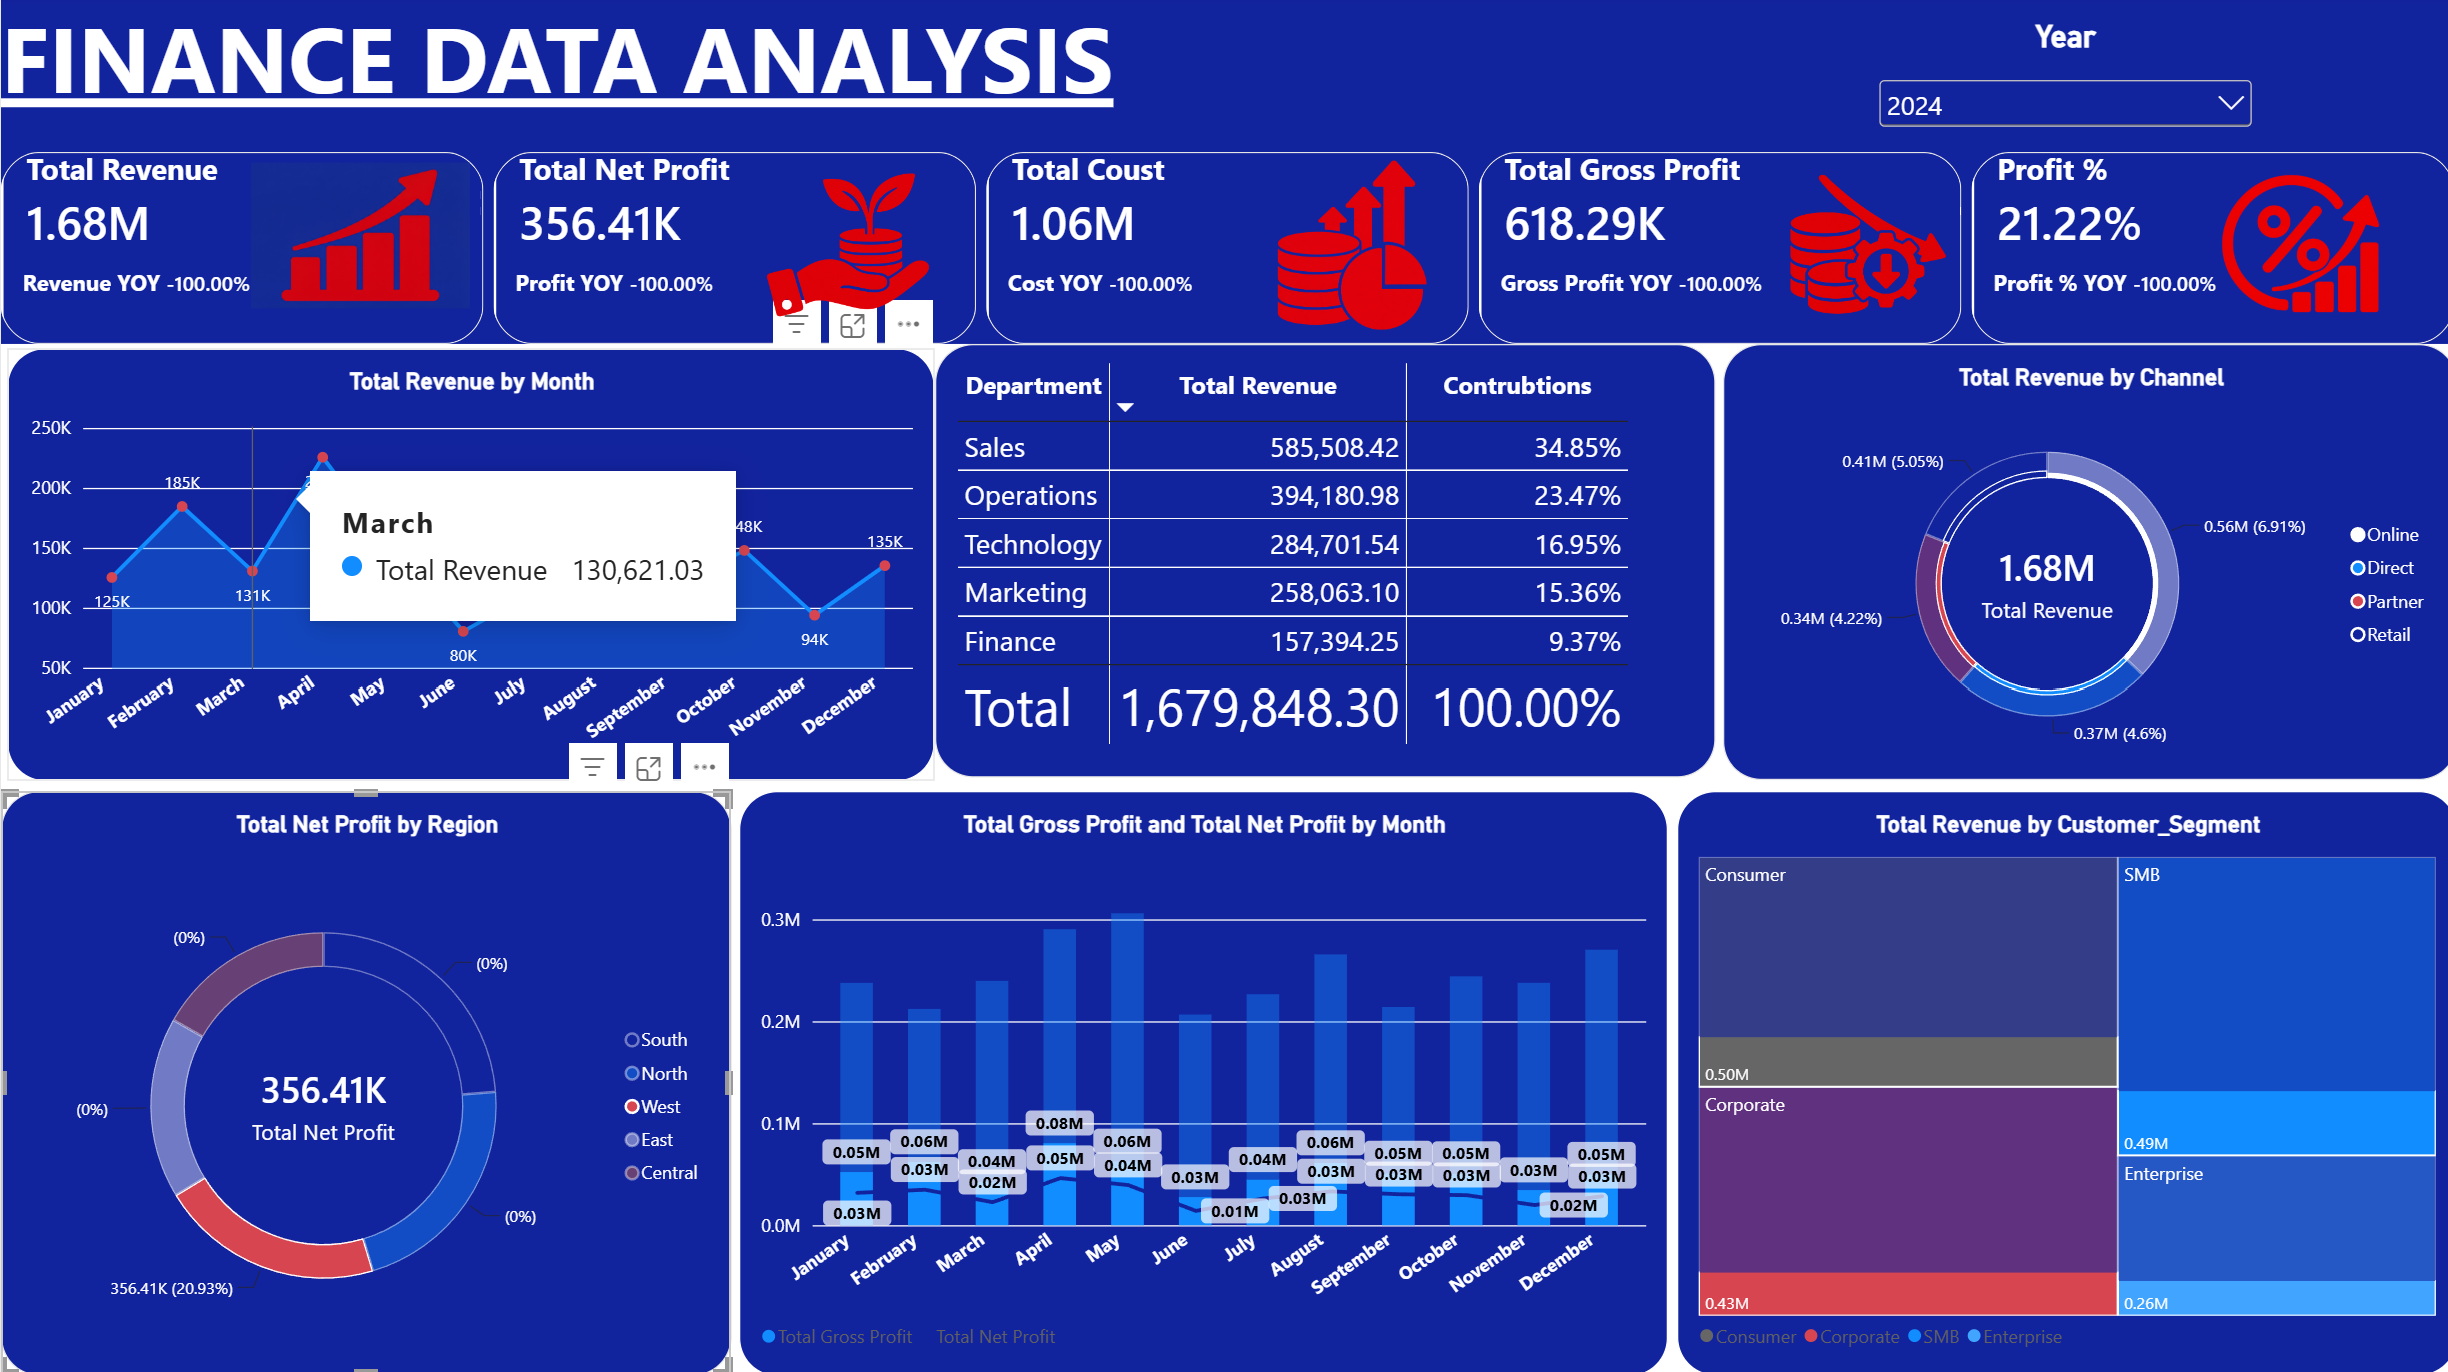

Layout of this report page (visuals, bound fields, positions):
{"tool":"powerbi","page":{"name":"Dashboard","canvas":[1920,1080],"ordinal":0},"visuals":[{"type":"textbox","box":[0,0,1920,123.6],"z":0},{"type":"cardVisual","fields":{"Data":["Finance Data Analysis.Total Revenue","Finance Data Analysis.Total Net Profit","Finance Data Analysis.Total Coust","Finance Data Analysis.Total Gross Profit","Finance Data Analysis.Profit %"]},"box":[0,123.6,1920,150],"z":1},{"type":"areaChart","fields":{"Category":["Finance Data Analysis.Transaction_Date.Variation.Date Hierarchy.Month"],"Y":["Finance Data Analysis.Total Revenue"]},"box":[4.1,276.1,725,337.9],"z":2},{"type":"tableEx","fields":{"Values":["Finance Data Analysis.Department","Finance Data Analysis.Total Revenue","Finance Data Analysis.Contrubtions"]},"box":[729.3,274,610,337.9],"z":3},{"type":"donutChart","fields":{"Category":["Finance Data Analysis.Channel"],"Y":["Finance Data Analysis.Total Revenue"]},"box":[1345.2,274,574,340],"z":4},{"type":"lineClusteredColumnComboChart","fields":{"Category":["Finance Data Analysis.Transaction_Date.Variation.Date Hierarchy.Month"],"Y":["Finance Data Analysis.Total Gross Profit"],"Y2":["Finance Data Analysis.Total Net Profit"]},"box":[576.8,622.1,726,457.3],"z":5},{"type":"treemap","fields":{"Group":["Finance Data Analysis.Customer_Segment"],"Values":["Finance Data Analysis.Total Revenue"]},"box":[1310.2,622.1,610,457],"z":6},{"type":"donutChart","fields":{"Category":["Finance Data Analysis.Region"],"Y":["Finance Data Analysis.Total Net Profit"]},"box":[0,622.1,571,457],"z":7},{"type":"slicer","title":"Year","fields":{"Values":["Finance Data Analysis.Transaction_Date.Variation.Date Hierarchy.Year"]},"box":[1462.7,18.5,300.8,88.6],"z":8},{"type":"image","box":[510.9,131.8,298.7,129.8],"z":10},{"type":"image","box":[902.3,123.6,300.8,148.3],"z":11},{"type":"image","box":[1302,131.8,298.7,129.8],"z":12},{"type":"image","box":[1666.6,131.8,255.5,129.8],"z":13},{"type":"image","box":[195.7,131.8,171,115.4],"z":14}]}

Visuals, with their boxes in screenshot pixels (x1, y1, x2, y2), scaled from the page's 1920x1080 canvas onto the 2448x1372 screenshot:
textbox: pyautogui.locateOnScreen(0, 0, 2447, 157)
cardVisual - Finance Data Analysis.Total Revenue x Finance Data Analysis.Total Net Profit: pyautogui.locateOnScreen(0, 157, 2447, 348)
areaChart - Finance Data Analysis.Transaction_Date.Variation.Date Hierarchy.Month x Finance Data Analysis.Total Revenue: pyautogui.locateOnScreen(5, 351, 930, 780)
tableEx - Finance Data Analysis.Department x Finance Data Analysis.Total Revenue: pyautogui.locateOnScreen(930, 348, 1708, 777)
donutChart - Finance Data Analysis.Channel x Finance Data Analysis.Total Revenue: pyautogui.locateOnScreen(1715, 348, 2447, 780)
lineClusteredColumnComboChart - Finance Data Analysis.Transaction_Date.Variation.Date Hierarchy.Month x Finance Data Analysis.Total Gross Profit: pyautogui.locateOnScreen(735, 790, 1661, 1371)
treemap - Finance Data Analysis.Customer_Segment x Finance Data Analysis.Total Revenue: pyautogui.locateOnScreen(1671, 790, 2447, 1371)
donutChart - Finance Data Analysis.Region x Finance Data Analysis.Total Net Profit: pyautogui.locateOnScreen(0, 790, 728, 1371)
"Year" slicer: pyautogui.locateOnScreen(1865, 24, 2248, 136)
image: pyautogui.locateOnScreen(651, 167, 1032, 332)
image: pyautogui.locateOnScreen(1150, 157, 1534, 345)
image: pyautogui.locateOnScreen(1660, 167, 2041, 332)
image: pyautogui.locateOnScreen(2125, 167, 2447, 332)
image: pyautogui.locateOnScreen(250, 167, 468, 314)
